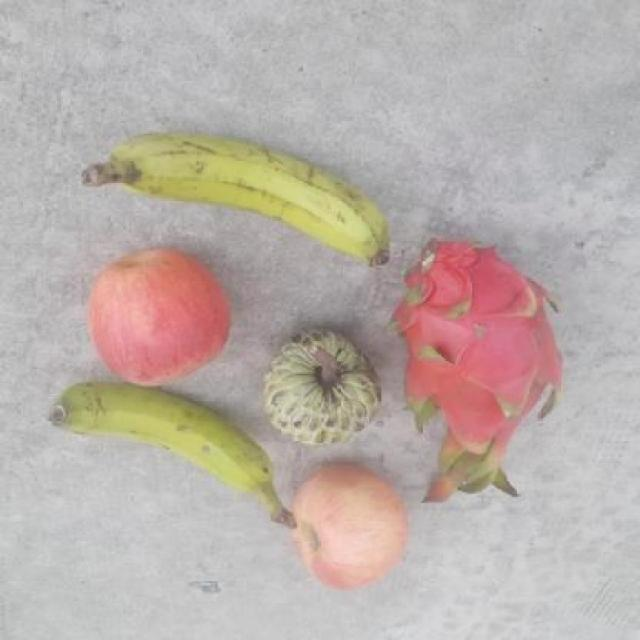apple: (85, 246, 233, 386), (289, 464, 409, 591)
banana: (82, 128, 396, 271), (47, 381, 301, 530)
dragon fruit: (389, 236, 568, 504)
sugar apple: (264, 325, 384, 447)
